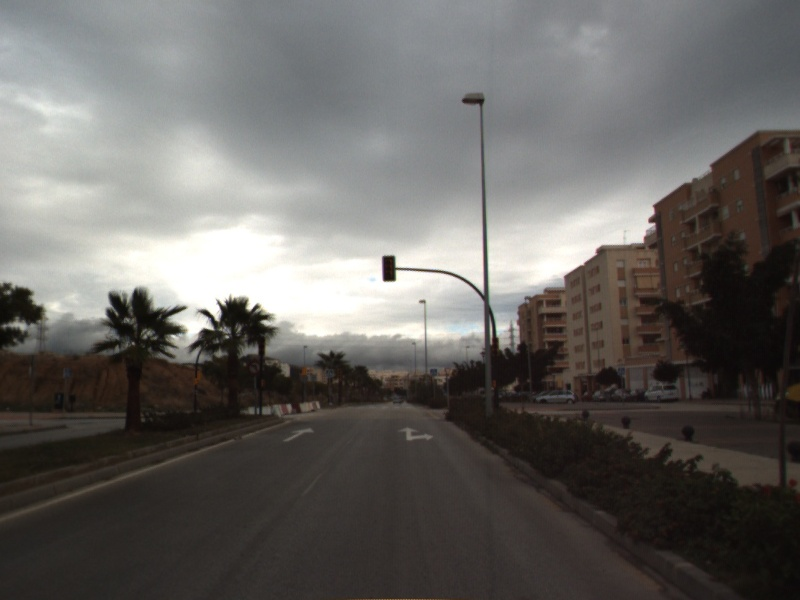STRAIGHT: (281, 425, 317, 443)
STRAIGHT_RIGHT: (396, 424, 436, 442)
